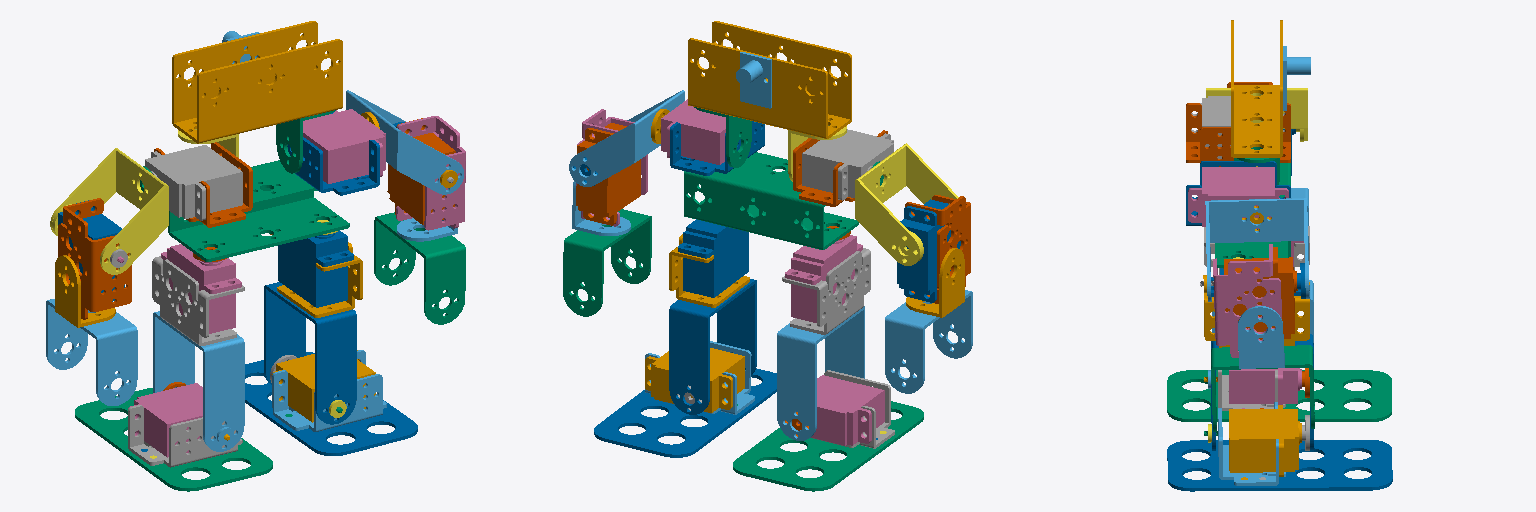
--- Render facts (derived) ---
Views: 3 orthographic renders of the robot side by side, from view 1: azimuth 30°, elevation 25°; view 2: azimuth 150°, elevation 25°; view 3: azimuth 270°, elevation 25°.
Model robot with 59 links and 58 joints (8 revolute, 50 fixed), rooted at base_link, posed all joints at 0.
Links seen in each view (by area): view 1: base_link, body1, leg1, leg2, shoulder2, hand1, hand2, servo21, foot2, bracket41, servo51, foot1 (+17 smaller); view 2: base_link, body1, leg1, leg2, foot2, foot1, shoulder2, hand1, hand2, servo51, servo21, servo81 (+19 smaller); view 3: foot1, foot2, shoulder1, servo71, base_link, bracket31, servo11, connection3, servo81, bracket21, servo31, hand1 (+8 smaller).
Boxes of the visible links, box(x1,y1,x2,y2) form: base_link: box(172, 21, 342, 143); body1: box(168, 160, 349, 261); leg1: box(264, 282, 356, 424); leg2: box(153, 311, 244, 451); shoulder2: box(50, 148, 168, 274); hand1: box(374, 212, 465, 324); hand2: box(46, 299, 137, 405); servo21: box(145, 145, 242, 220); foot2: box(75, 388, 272, 491); bracket41: box(58, 198, 131, 319); servo51: box(278, 230, 353, 307); foot1: box(245, 352, 417, 455); base_link: box(688, 21, 851, 138); body1: box(684, 152, 858, 249); leg1: box(669, 279, 756, 414); leg2: box(777, 306, 864, 440); foot2: box(733, 401, 923, 491); foot1: box(594, 368, 776, 457); shoulder2: box(855, 143, 958, 265); hand1: box(563, 209, 651, 316); hand2: box(885, 290, 972, 393); servo51: box(678, 219, 748, 297); servo21: box(802, 129, 893, 200); servo81: box(798, 375, 884, 445); foot1: box(1167, 440, 1392, 491); foot2: box(1167, 370, 1391, 421); shoulder1: box(1205, 198, 1309, 301); servo71: box(1229, 405, 1301, 476); base_link: box(1231, 20, 1282, 157); bracket31: box(1213, 244, 1281, 357); servo11: box(1188, 167, 1288, 228); connection3: box(1238, 306, 1284, 368); servo81: box(1229, 368, 1301, 404); bracket21: box(1186, 103, 1290, 166); servo31: box(1224, 247, 1297, 339); hand1: box(1211, 345, 1314, 431).
Size in the robot's own frame: 0.2387 by 0.124 by 0.2303 metres.
59 mesh visuals loaded from 59 distinct referenced files (59 binary STL).

The robot description file, URDF, robot "robot":
<?xml version="1.0" ?>
<robot name="robot">

<material name="silver">
  <color rgba="0.700 0.700 0.700 1.000"/>
</material>

<link name="base_link">
  <inertial>
    <origin xyz="0.0013701657974682124 0.001576690193939907 0.20915638797154532" rpy="0 0 0"/>
    <mass value="0.14165248638936148"/>
    <inertia ixx="4.773281688916827e-05" iyy="0.00011970912409957606" izz="0.00011571187682261842" ixy="-4.293557070072845e-18" iyz="7.318364664277155e-19" ixz="-2.1772134876224536e-16"/>
  </inertial>
  <visual>
    <origin xyz="0 0 0" rpy="0 0 0"/>
    <geometry>
      <mesh filename="meshes/base_link.stl" scale="0.001 0.001 0.001"/>
    </geometry>
    <material name="silver"/>
    <material/>
  </visual>
  <collision>
    <origin xyz="0 0 0" rpy="0 0 0"/>
    <geometry>
      <mesh filename="meshes/base_link.stl" scale="0.001 0.001 0.001"/>
    </geometry>
  </collision>
</link>

<link name="camera1">
  <inertial>
    <origin xyz="-0.006999834202576712 0.004491951311822999 0.0017403620449260027" rpy="0 0 0"/>
    <mass value="0.017213034736494746"/>
    <inertia ixx="1.358276581521164e-06" iyy="1.3545110688692593e-06" izz="7.099517221006004e-07" ixy="4.622682309640344e-19" iyz="-2.432662866077315e-07" ixz="-1.2976544751935881e-18"/>
  </inertial>
  <visual>
    <origin xyz="-0.00837 -0.016077 -0.221871" rpy="0 0 0"/>
    <geometry>
      <mesh filename="meshes/camera1.stl" scale="0.001 0.001 0.001"/>
    </geometry>
    <material name="silver"/>
    <material/>
  </visual>
  <collision>
    <origin xyz="-0.00837 -0.016077 -0.221871" rpy="0 0 0"/>
    <geometry>
      <mesh filename="meshes/camera1.stl" scale="0.001 0.001 0.001"/>
    </geometry>
  </collision>
</link>

<link name="connection1">
  <inertial>
    <origin xyz="-0.009713377906085507 -3.098060402423504e-07 -0.010286139285751617" rpy="0 0 0"/>
    <mass value="0.020548069245269533"/>
    <inertia ixx="3.5713234489500884e-06" iyy="3.836775691427874e-06" izz="2.404942580693882e-06" ixy="1.642079247370868e-18" iyz="5.499784926522172e-18" ixz="-1.0087549666986284e-06"/>
  </inertial>
  <visual>
    <origin xyz="-0.03637 -0.001577 -0.192871" rpy="0 0 0"/>
    <geometry>
      <mesh filename="meshes/connection1.stl" scale="0.001 0.001 0.001"/>
    </geometry>
    <material name="silver"/>
    <material/>
  </visual>
  <collision>
    <origin xyz="-0.03637 -0.001577 -0.192871" rpy="0 0 0"/>
    <geometry>
      <mesh filename="meshes/connection1.stl" scale="0.001 0.001 0.001"/>
    </geometry>
  </collision>
</link>

<link name="connection2">
  <inertial>
    <origin xyz="-0.06870929049914766 0.058129690193920676 -0.19634313928575126" rpy="0 0 0"/>
    <mass value="0.020548069245269533"/>
    <inertia ixx="3.5713234489498716e-06" iyy="3.836775691427549e-06" izz="2.40494258069323e-06" ixy="1.6534083130403943e-18" iyz="-5.4447277849506426e-18" ixz="1.008754966699157e-06"/>
  </inertial>
  <visual>
    <origin xyz="-0.044793 0.056553 -0.378928" rpy="0 0 0"/>
    <geometry>
      <mesh filename="meshes/connection2.stl" scale="0.001 0.001 0.001"/>
    </geometry>
    <material name="silver"/>
    <material/>
  </visual>
  <collision>
    <origin xyz="-0.044793 0.056553 -0.378928" rpy="0 0 0"/>
    <geometry>
      <mesh filename="meshes/connection2.stl" scale="0.001 0.001 0.001"/>
    </geometry>
  </collision>
</link>

<link name="bracket11">
  <inertial>
    <origin xyz="0.014403656438291258 -0.010160309805984794 -0.007486470178516336" rpy="0 0 0"/>
    <mass value="0.04491839260137373"/>
    <inertia ixx="1.4471951462612315e-05" iyy="9.956231389530567e-06" izz="1.9175693401914722e-05" ixy="-1.3494928915655513e-17" iyz="1.0083080204115191e-17" ixz="1.2141799296271657e-06"/>
  </inertial>
  <visual>
    <origin xyz="-0.02237 -0.001577 -0.168871" rpy="0 0 0"/>
    <geometry>
      <mesh filename="meshes/bracket11.stl" scale="0.001 0.001 0.001"/>
    </geometry>
    <material name="silver"/>
    <material/>
  </visual>
  <collision>
    <origin xyz="-0.02237 -0.001577 -0.168871" rpy="0 0 0"/>
    <geometry>
      <mesh filename="meshes/bracket11.stl" scale="0.001 0.001 0.001"/>
    </geometry>
  </collision>
</link>

<link name="bracket21">
  <inertial>
    <origin xyz="0.06022667515647532 0.0007636901938649059 -0.15035847017851564" rpy="0 0 0"/>
    <mass value="0.04491839260137373"/>
    <inertia ixx="1.4471951462612315e-05" iyy="9.956231389530784e-06" izz="1.9175693401914763e-05" ixy="-1.3503399245128056e-17" iyz="-9.947554932554503e-18" ixz="-1.214179929626461e-06"/>
  </inertial>
  <visual>
    <origin xyz="0.09426 0.009347 -0.311743" rpy="0 0 0"/>
    <geometry>
      <mesh filename="meshes/bracket21.stl" scale="0.001 0.001 0.001"/>
    </geometry>
    <material name="silver"/>
    <material/>
  </visual>
  <collision>
    <origin xyz="0.09426 0.009347 -0.311743" rpy="0 0 0"/>
    <geometry>
      <mesh filename="meshes/bracket21.stl" scale="0.001 0.001 0.001"/>
    </geometry>
  </collision>
</link>

<link name="servo11">
  <inertial>
    <origin xyz="-0.007913317491596072 -0.02382570023053155 -0.004999682810447603" rpy="0 0 0"/>
    <mass value="0.24700661936155432"/>
    <inertia ixx="4.351485441173378e-05" iyy="3.82657559888748e-05" izz="6.541208567746983e-05" ixy="-8.110467535674782e-07" iyz="4.336808689942018e-19" ixz="1.474514954580286e-17"/>
  </inertial>
  <visual>
    <origin xyz="-0.05537 -0.015417 -0.173871" rpy="0 0 0"/>
    <geometry>
      <mesh filename="meshes/servo11.stl" scale="0.001 0.001 0.001"/>
    </geometry>
    <material name="silver"/>
    <material/>
  </visual>
  <collision>
    <origin xyz="-0.05537 -0.015417 -0.173871" rpy="0 0 0"/>
    <geometry>
      <mesh filename="meshes/servo11.stl" scale="0.001 0.001 0.001"/>
    </geometry>
  </collision>
</link>

<link name="servo21">
  <inertial>
    <origin xyz="0.007913649086362898 -0.02382570023053196 -0.004999682810440803" rpy="0 0 0"/>
    <mass value="0.24700661936155432"/>
    <inertia ixx="4.351485441173638e-05" iyy="3.8265755988873065e-05" izz="6.541208567747015e-05" ixy="8.110467535598617e-07" iyz="3.7947076036992655e-19" ixz="1.474514954580286e-17"/>
  </inertial>
  <visual>
    <origin xyz="0.05263 -0.015417 -0.173871" rpy="0 0 0"/>
    <geometry>
      <mesh filename="meshes/servo21.stl" scale="0.001 0.001 0.001"/>
    </geometry>
    <material name="silver"/>
    <material/>
  </visual>
  <collision>
    <origin xyz="0.05263 -0.015417 -0.173871" rpy="0 0 0"/>
    <geometry>
      <mesh filename="meshes/servo21.stl" scale="0.001 0.001 0.001"/>
    </geometry>
  </collision>
</link>

<link name="geer11">
  <inertial>
    <origin xyz="0.001012184629048854 -2.259071811684752e-07 3.17149589007526e-07" rpy="0 0 0"/>
    <mass value="0.006118395420730019"/>
    <inertia ixx="2.885791940612369e-07" iyy="1.502825918659541e-07" izz="1.5028259089887286e-07" ixy="-3.1212317073373713e-17" iyz="2.866761834158498e-17" ixz="5.735429492448318e-17"/>
  </inertial>
  <visual>
    <origin xyz="-0.070227 -0.001593 -0.168871" rpy="0 0 0"/>
    <geometry>
      <mesh filename="meshes/geer11.stl" scale="0.001 0.001 0.001"/>
    </geometry>
    <material name="silver"/>
    <material/>
  </visual>
  <collision>
    <origin xyz="-0.070227 -0.001593 -0.168871" rpy="0 0 0"/>
    <geometry>
      <mesh filename="meshes/geer11.stl" scale="0.001 0.001 0.001"/>
    </geometry>
  </collision>
</link>

<link name="shoulder1">
  <inertial>
    <origin xyz="0.011322537331950877 0.00024500436696702974 -0.0082885622390525" rpy="0 0 0"/>
    <mass value="0.04640591354591769"/>
    <inertia ixx="3.0158565719618034e-05" iyy="1.2322813661878483e-05" izz="3.1446065876846265e-05" ixy="-1.3599423589060729e-07" iyz="-5.662579714272647e-07" ixz="4.596676968548542e-06"/>
  </inertial>
  <visual>
    <origin xyz="-0.072727 -0.001593 -0.168871" rpy="0 0 0"/>
    <geometry>
      <mesh filename="meshes/shoulder1.stl" scale="0.001 0.001 0.001"/>
    </geometry>
    <material name="silver"/>
    <material/>
  </visual>
  <collision>
    <origin xyz="-0.072727 -0.001593 -0.168871" rpy="0 0 0"/>
    <geometry>
      <mesh filename="meshes/shoulder1.stl" scale="0.001 0.001 0.001"/>
    </geometry>
  </collision>
</link>

<link name="geer21">
  <inertial>
    <origin xyz="-0.0010118530342822507 -2.2590837307052102e-07 3.172301392684318e-07" rpy="0 0 0"/>
    <mass value="0.006118395420730019"/>
    <inertia ixx="2.8857919406047794e-07" iyy="1.5028259186676725e-07" izz="1.5028259089804277e-07" ixy="2.94744172238447e-17" iyz="-3.282252670610414e-20" ixz="5.823520918962766e-17"/>
  </inertial>
  <visual>
    <origin xyz="0.067487 -0.001593 -0.168871" rpy="0 0 0"/>
    <geometry>
      <mesh filename="meshes/geer21.stl" scale="0.001 0.001 0.001"/>
    </geometry>
    <material name="silver"/>
    <material/>
  </visual>
  <collision>
    <origin xyz="0.067487 -0.001593 -0.168871" rpy="0 0 0"/>
    <geometry>
      <mesh filename="meshes/geer21.stl" scale="0.001 0.001 0.001"/>
    </geometry>
  </collision>
</link>

<link name="shoulder2">
  <inertial>
    <origin xyz="0.1575487942628156 -0.01659322898104576 0.03169381092909043" rpy="0 0 0"/>
    <mass value="0.04640591354591769"/>
    <inertia ixx="3.0158565719609577e-05" iyy="1.2306060892459383e-05" izz="3.146281864626992e-05" ixy="-1.1346995332610897e-12" iyz="-7.939690791896334e-13" ixz="-4.598688246160881e-06"/>
  </inertial>
  <visual>
    <origin xyz="0.238858 -0.018186 -0.128885" rpy="0 0 0"/>
    <geometry>
      <mesh filename="meshes/shoulder2.stl" scale="0.001 0.001 0.001"/>
    </geometry>
    <material name="silver"/>
    <material/>
  </visual>
  <collision>
    <origin xyz="0.238858 -0.018186 -0.128885" rpy="0 0 0"/>
    <geometry>
      <mesh filename="meshes/shoulder2.stl" scale="0.001 0.001 0.001"/>
    </geometry>
  </collision>
</link>

<link name="geer31">
  <inertial>
    <origin xyz="-2.343668628612683e-08 -0.0014872206682448944 -4.40889649742926e-05" rpy="0 0 0"/>
    <mass value="0.006118395420730019"/>
    <inertia ixx="1.502825908979513e-07" iyy="2.8845825201200123e-07" izz="1.5040353391640947e-07" ixy="5.819455160815945e-17" iyz="4.087939278033556e-09" ixz="1.7753810574450135e-18"/>
  </inertial>
  <visual>
    <origin xyz="-0.104727 -0.028306 -0.145151" rpy="0 0 0"/>
    <geometry>
      <mesh filename="meshes/geer31.stl" scale="0.001 0.001 0.001"/>
    </geometry>
    <material name="silver"/>
    <material/>
  </visual>
  <collision>
    <origin xyz="-0.104727 -0.028306 -0.145151" rpy="0 0 0"/>
    <geometry>
      <mesh filename="meshes/geer31.stl" scale="0.001 0.001 0.001"/>
    </geometry>
  </collision>
</link>

<link name="servo31">
  <inertial>
    <origin xyz="-2.3396106288431362e-08 -0.02246455636594554 -0.010670488861434874" rpy="0 0 0"/>
    <mass value="0.24700661936155432"/>
    <inertia ixx="6.541208567746679e-05" iyy="4.3558211826113906e-05" izz="3.82223985746148e-05" ixy="8.483881999699072e-18" iyz="-6.544689725912679e-07" ixz="7.37257477290143e-18"/>
  </inertial>
  <visual>
    <origin xyz="-0.104727 -0.025807 -0.145077" rpy="0 0 0"/>
    <geometry>
      <mesh filename="meshes/servo31.stl" scale="0.001 0.001 0.001"/>
    </geometry>
    <material name="silver"/>
    <material/>
  </visual>
  <collision>
    <origin xyz="-0.104727 -0.025807 -0.145077" rpy="0 0 0"/>
    <geometry>
      <mesh filename="meshes/servo31.stl" scale="0.001 0.001 0.001"/>
    </geometry>
  </collision>
</link>

<link name="bracket31">
  <inertial>
    <origin xyz="0.0024867639719687723 -0.017878746615918997 -0.024539942127773273" rpy="0 0 0"/>
    <mass value="0.04491839260137373"/>
    <inertia ixx="1.917569340190357e-05" iyy="1.4468002410790003e-05" izz="9.960180441345072e-06" ixy="-1.213648905988415e-06" iyz="1.3348115063672154e-07" ixz="-3.5905911806625133e-08"/>
  </inertial>
  <visual>
    <origin xyz="-0.109727 -0.010548 -0.158456" rpy="0 0 0"/>
    <geometry>
      <mesh filename="meshes/bracket31.stl" scale="0.001 0.001 0.001"/>
    </geometry>
    <material name="silver"/>
    <material/>
  </visual>
  <collision>
    <origin xyz="-0.109727 -0.010548 -0.158456" rpy="0 0 0"/>
    <geometry>
      <mesh filename="meshes/bracket31.stl" scale="0.001 0.001 0.001"/>
    </geometry>
  </collision>
</link>

<link name="lbolt11">
  <inertial>
    <origin xyz="7.984727779936085e-07 -0.003763245905150793 -0.00011191151929032528" rpy="0 0 0"/>
    <mass value="0.0005719338031033318"/>
    <inertia ixx="6.1499699829141105e-09" iyy="1.1035193324075287e-09" izz="6.145799218792468e-09" ixy="-2.731998885050559e-12" iyz="-1.4860934736550644e-10" ixz="1.2785458862419816e-13"/>
  </inertial>
  <visual>
    <origin xyz="-0.104727 0.019968 -0.143707" rpy="0 0 0"/>
    <geometry>
      <mesh filename="meshes/lbolt11.stl" scale="0.001 0.001 0.001"/>
    </geometry>
    <material name="silver"/>
    <material/>
  </visual>
  <collision>
    <origin xyz="-0.104727 0.019968 -0.143707" rpy="0 0 0"/>
    <geometry>
      <mesh filename="meshes/lbolt11.stl" scale="0.001 0.001 0.001"/>
    </geometry>
  </collision>
</link>

<link name="washers11">
  <inertial>
    <origin xyz="-2.3396262566199866e-08 -0.00027222059424134026 -8.027903689727944e-06" rpy="0 0 0"/>
    <mass value="0.001753136877683194"/>
    <inertia ixx="1.2790252015429458e-08" iyy="2.1242348928840016e-08" izz="1.2797650699084939e-08" ixy="3.9048218868423246e-19" iyz="2.5005602351015077e-10" ixz="1.6940658945086007e-20"/>
  </inertial>
  <visual>
    <origin xyz="-0.104727 0.02567 -0.143554" rpy="0 0 0"/>
    <geometry>
      <mesh filename="meshes/washers11.stl" scale="0.001 0.001 0.001"/>
    </geometry>
    <material name="silver"/>
    <material/>
  </visual>
  <collision>
    <origin xyz="-0.104727 0.02567 -0.143554" rpy="0 0 0"/>
    <geometry>
      <mesh filename="meshes/washers11.stl" scale="0.001 0.001 0.001"/>
    </geometry>
  </collision>
</link>

<link name="connection3">
  <inertial>
    <origin xyz="-0.0007144793201071253 -0.18042182509545407 0.08615346557426815" rpy="0 0 0"/>
    <mass value="0.020548069245269533"/>
    <inertia ixx="3.5713234489500342e-06" iyy="3.835523536054237e-06" izz="2.4061947360619557e-06" ixy="2.9831053858648315e-08" iyz="4.232386596290797e-08" ixz="-1.0083137860139786e-06"/>
  </inertial>
  <visual>
    <origin xyz="-0.115155 -0.184399 -0.023873" rpy="0 0 0"/>
    <geometry>
      <mesh filename="meshes/connection3.stl" scale="0.001 0.001 0.001"/>
    </geometry>
    <material name="silver"/>
    <material/>
  </visual>
  <collision>
    <origin xyz="-0.115155 -0.184399 -0.023873" rpy="0 0 0"/>
    <geometry>
      <mesh filename="meshes/connection3.stl" scale="0.001 0.001 0.001"/>
    </geometry>
  </collision>
</link>

<link name="hand1">
  <inertial>
    <origin xyz="0.046629976976433236 -0.014771346778488532 0.1299019504597067" rpy="0 0 0"/>
    <mass value="0.04880806924526924"/>
    <inertia ixx="3.4702615753875196e-05" iyy="1.1123979702701704e-05" izz="2.876175752851678e-05" ixy="-8.334804200982315e-19" iyz="-5.222723733511982e-07" ixz="2.0057740190981832e-17"/>
  </inertial>
  <visual>
    <origin xyz="-0.058097 -0.019425 0.042741" rpy="0 0 0"/>
    <geometry>
      <mesh filename="meshes/hand1.stl" scale="0.001 0.001 0.001"/>
    </geometry>
    <material name="silver"/>
    <material/>
  </visual>
  <collision>
    <origin xyz="-0.058097 -0.019425 0.042741" rpy="0 0 0"/>
    <geometry>
      <mesh filename="meshes/hand1.stl" scale="0.001 0.001 0.001"/>
    </geometry>
  </collision>
</link>

<link name="geer41">
  <inertial>
    <origin xyz="-0.12472664504971388 0.07618398293097349 -0.13061268279017413" rpy="0 0 0"/>
    <mass value="0.006118395420730019"/>
    <inertia ixx="1.5028259089784287e-07" iyy="2.8857919406218555e-07" izz="1.5028259186744487e-07" ixy="5.821488039889355e-17" iyz="-2.949368722339474e-17" ixz="4.0657581468206416e-20"/>
  </inertial>
  <visual>
    <origin xyz="-0.02274 0.050079 -0.274984" rpy="0 0 0"/>
    <geometry>
      <mesh filename="meshes/geer41.stl" scale="0.001 0.001 0.001"/>
    </geometry>
    <material name="silver"/>
    <material/>
  </visual>
  <collision>
    <origin xyz="-0.02274 0.050079 -0.274984" rpy="0 0 0"/>
    <geometry>
      <mesh filename="meshes/geer41.stl" scale="0.001 0.001 0.001"/>
    </geometry>
  </collision>
</link>

<link name="servo41">
  <inertial>
    <origin xyz="3.549908662164869e-07 -0.022770519189672052 -0.010001157112332959" rpy="0 0 0"/>
    <mass value="0.24700661936155432"/>
    <inertia ixx="6.541208567746853e-05" iyy="4.351485441181791e-05" izz="3.8265755988907326e-05" ixy="8.646512325571898e-18" iyz="-8.110467535654047e-07" ixz="6.071532165918825e-18"/>
  </inertial>
  <visual>
    <origin xyz="0.101987 -0.025093 -0.144371" rpy="0 0 0"/>
    <geometry>
      <mesh filename="meshes/servo41.stl" scale="0.001 0.001 0.001"/>
    </geometry>
    <material name="silver"/>
    <material/>
  </visual>
  <collision>
    <origin xyz="0.101987 -0.025093 -0.144371" rpy="0 0 0"/>
    <geometry>
      <mesh filename="meshes/servo41.stl" scale="0.001 0.001 0.001"/>
    </geometry>
  </collision>
</link>

<link name="bracket41">
  <inertial>
    <origin xyz="-0.0024864323772015445 -0.018596545259784554 -0.02399976668778489" rpy="0 0 0"/>
    <mass value="0.04491839260137373"/>
    <inertia ixx="1.9175693401879716e-05" iyy="1.4471951462613616e-05" izz="9.956231389507257e-06" ixy="1.214179929626068e-06" iyz="-1.4799359654427136e-17" ixz="5.637851296924623e-18"/>
  </inertial>
  <visual>
    <origin xyz="0.106987 -0.010236 -0.158195" rpy="0 0 0"/>
    <geometry>
      <mesh filename="meshes/bracket41.stl" scale="0.001 0.001 0.001"/>
    </geometry>
    <material name="silver"/>
    <material/>
  </visual>
  <collision>
    <origin xyz="0.106987 -0.010236 -0.158195" rpy="0 0 0"/>
    <geometry>
      <mesh filename="meshes/bracket41.stl" scale="0.001 0.001 0.001"/>
    </geometry>
  </collision>
</link>

<link name="lbolt21">
  <inertial>
    <origin xyz="1.1765021017406951e-06 -0.003964642011537151 2.8816194125314e-08" rpy="0 0 0"/>
    <mass value="0.0005719338031033318"/>
    <inertia ixx="6.1499699829124164e-09" iyy="1.0991433151858745e-09" izz="6.150175236007346e-09" ixy="-2.7270231323034487e-12" iyz="6.964205111843671e-13" ixz="2.0858975252624219e-13"/>
  </inertial>
  <visual>
    <origin xyz="0.101987 0.020703 -0.144355" rpy="0 0 0"/>
    <geometry>
      <mesh filename="meshes/lbolt21.stl" scale="0.001 0.001 0.001"/>
    </geometry>
    <material name="silver"/>
    <material/>
  </visual>
  <collision>
    <origin xyz="0.101987 0.020703 -0.144355" rpy="0 0 0"/>
    <geometry>
      <mesh filename="meshes/lbolt21.stl" scale="0.001 0.001 0.001"/>
    </geometry>
  </collision>
</link>

<link name="washers21">
  <inertial>
    <origin xyz="-0.12472664500928997 -0.030577103038707115 -0.1322096828104447" rpy="0 0 0"/>
    <mass value="0.001753136877683194"/>
    <inertia ixx="1.2790252015429458e-08" iyy="2.124974685873104e-08" izz="1.2790252769183749e-08" ixy="3.9132922163148676e-19" iyz="8.470329472543003e-22" ixz="0.0"/>
  </inertial>
  <visual>
    <origin xyz="-0.02274 -0.003898 -0.276581" rpy="0 0 0"/>
    <geometry>
      <mesh filename="meshes/washers21.stl" scale="0.001 0.001 0.001"/>
    </geometry>
    <material name="silver"/>
    <material/>
  </visual>
  <collision>
    <origin xyz="-0.02274 -0.003898 -0.276581" rpy="0 0 0"/>
    <geometry>
      <mesh filename="meshes/washers21.stl" scale="0.001 0.001 0.001"/>
    </geometry>
  </collision>
</link>

<link name="connection4">
  <inertial>
    <origin xyz="0.0020508109148740378 -0.17775603590072814 0.09483568960863409" rpy="0 0 0"/>
    <mass value="0.020548069245269533"/>
    <inertia ixx="3.5713234489513353e-06" iyy="3.836775691451943e-06" izz="2.404942580696071e-06" ixy="-3.64986496971878e-18" iyz="-1.8228149024912543e-18" ixz="1.0087549666945085e-06"/>
  </inertial>
  <visual>
    <origin xyz="0.113751 -0.179992 -0.015146" rpy="0 0 0"/>
    <geometry>
      <mesh filename="meshes/connection4.stl" scale="0.001 0.001 0.001"/>
    </geometry>
    <material name="silver"/>
    <material/>
  </visual>
  <collision>
    <origin xyz="0.113751 -0.179992 -0.015146" rpy="0 0 0"/>
    <geometry>
      <mesh filename="meshes/connection4.stl" scale="0.001 0.001 0.001"/>
    </geometry>
  </collision>
</link>

<link name="hand2">
  <inertial>
    <origin xyz="-0.04662964538164932 0.010922964099257856 0.13028216984694155" rpy="0 0 0"/>
    <mass value="0.04880806924526924"/>
    <inertia ixx="3.470261575387346e-05" iyy="1.110852822765933e-05" izz="2.8777209003567395e-05" ixy="-8.191486226306888e-17" iyz="3.8963515573697816e-20" ixz="1.962405932198763e-17"/>
  </inertial>
  <visual>
    <origin xyz="0.055357 0.008687 0.043176" rpy="0 0 0"/>
    <geometry>
      <mesh filename="meshes/hand2.stl" scale="0.001 0.001 0.001"/>
    </geometry>
    <material name="silver"/>
    <material/>
  </visual>
  <collision>
    <origin xyz="0.055357 0.008687 0.043176" rpy="0 0 0"/>
    <geometry>
      <mesh filename="meshes/hand2.stl" scale="0.001 0.001 0.001"/>
    </geometry>
  </collision>
</link>

<link name="body1">
  <inertial>
    <origin xyz="-0.03499983420270281 0.012714619233136496 -0.014499683182973233" rpy="0 0 0"/>
    <mass value="0.14165248638936148"/>
    <inertia ixx="4.7732816889168705e-05" iyy="0.00011571187682262504" izz="0.00011970912409958194" ixy="-2.206345068260897e-16" iyz="8.131516293641283e-20" ixz="1.4907779871675686e-18"/>
  </inertial>
  <visual>
    <origin xyz="-0.03637 0.008583 -0.154871" rpy="0 0 0"/>
    <geometry>
      <mesh filename="meshes/body1.stl" scale="0.001 0.001 0.001"/>
    </geometry>
    <material name="silver"/>
    <material/>
  </visual>
  <collision>
    <origin xyz="-0.03637 0.008583 -0.154871" rpy="0 0 0"/>
    <geometry>
      <mesh filename="meshes/body1.stl" scale="0.001 0.001 0.001"/>
    </geometry>
  </collision>
</link>

<link name="geer51">
  <inertial>
    <origin xyz="1.6575679852304237e-07 -3.098263310647581e-07 -0.0014874751578223128" rpy="0 0 0"/>
    <mass value="0.006118395420730019"/>
    <inertia ixx="1.5028259089801905e-07" iyy="1.502825918667808e-07" izz="2.8857919406156044e-07" ixy="-5.082197683525802e-20" iyz="2.9491146124552975e-17" ixz="5.824876171678373e-17"/>
  </inertial>
  <visual>
    <origin xyz="-0.03637 0.008583 -0.125871" rpy="0 0 0"/>
    <geometry>
      <mesh filename="meshes/geer51.stl" scale="0.001 0.001 0.001"/>
    </geometry>
    <material name="silver"/>
    <material/>
  </visual>
  <collision>
    <origin xyz="-0.03637 0.008583 -0.125871" rpy="0 0 0"/>
    <geometry>
      <mesh filename="meshes/geer51.stl" scale="0.001 0.001 0.001"/>
    </geometry>
  </collision>
</link>

<link name="servo51">
  <inertial>
    <origin xyz="-0.00012121475912479918 0.010000427915319762 -0.022769977278467565" rpy="0 0 0"/>
    <mass value="0.24700661936155432"/>
    <inertia ixx="6.540808732274006e-05" iyy="3.826975434361281e-05" izz="4.351485441177026e-05" ixy="3.294308253941821e-07" iyz="8.109870222482426e-07" ixz="-9.843079442229535e-09"/>
  </inertial>
  <visual>
    <origin xyz="-0.03637 0.008583 -0.123371" rpy="0 0 0"/>
    <geometry>
      <mesh filename="meshes/servo51.stl" scale="0.001 0.001 0.001"/>
    </geometry>
    <material name="silver"/>
    <material/>
  </visual>
  <collision>
    <origin xyz="-0.03637 0.008583 -0.123371" rpy="0 0 0"/>
    <geometry>
      <mesh filename="meshes/servo51.stl" scale="0.001 0.001 0.001"/>
    </geometry>
  </collision>
</link>

<link name="geer61">
  <inertial>
    <origin xyz="1.6575679884917038e-07 -3.098263314325195e-07 -0.0014874751578212303" rpy="0 0 0"/>
    <mass value="0.006118395420730019"/>
    <inertia ixx="1.502825908980326e-07" iyy="1.5028259186679435e-07" izz="2.885791940614622e-07" ixy="-4.0657581468206416e-20" iyz="2.949029909160572e-17" ixz="5.824876171678373e-17"/>
  </inertial>
  <visual>
    <origin xyz="0.03363 0.008583 -0.125871" rpy="0 0 0"/>
    <geometry>
      <mesh filename="meshes/geer61.stl" scale="0.001 0.001 0.001"/>
    </geometry>
    <material name="silver"/>
    <material/>
  </visual>
  <collision>
    <origin xyz="0.03363 0.008583 -0.125871" rpy="0 0 0"/>
    <geometry>
      <mesh filename="meshes/geer61.stl" scale="0.001 0.001 0.001"/>
    </geometry>
  </collision>
</link>

<link name="servo61">
  <inertial>
    <origin xyz="1.657973792423828e-07 0.010001164495827696 -0.022769977278467107" rpy="0 0 0"/>
    <mass value="0.24700661936155432"/>
    <inertia ixx="6.541208567746679e-05" iyy="3.8265755988884775e-05" izz="4.351485441182198e-05" ixy="-2.9493687223394738e-18" iyz="8.110467535637784e-07" ixz="1.5720931501039814e-17"/>
  </inertial>
  <visual>
    <origin xyz="0.03363 0.008583 -0.123371" rpy="0 0 0"/>
    <geometry>
      <mesh filename="meshes/servo61.stl" scale="0.001 0.001 0.001"/>
    </geometry>
    <material name="silver"/>
    <material/>
  </visual>
  <collision>
    <origin xyz="0.03363 0.008583 -0.123371" rpy="0 0 0"/>
    <geometry>
      <mesh filename="meshes/servo61.stl" scale="0.001 0.001 0.001"/>
    </geometry>
  </collision>
</link>

<link name="bracket61">
  <inertial>
    <origin xyz="-0.0024866215706897607 0.02399977407128077 -0.01859700334857986" rpy="0 0 0"/>
    <mass value="0.04491839260137373"/>
    <inertia ixx="1.9175693401906658e-05" iyy="9.956231389524224e-06" izz="1.4471951462613386e-05" ixy="-1.0149148774001027e-17" iyz="1.3131551781283418e-17" ixz="1.2141799296271657e-06"/>
  </inertial>
  <visual>
    <origin xyz="0.03863 0.022407 -0.108515" rpy="0 0 0"/>
    <geometry>
      <mesh filename="meshes/bracket61.stl" scale="0.001 0.001 0.001"/>
    </geometry>
    <material name="silver"/>
    <material/>
  </visual>
  <collision>
    <origin xyz="0.03863 0.022407 -0.108515" rpy="0 0 0"/>
    <geometry>
      <mesh filename="meshes/bracket61.stl" scale="0.001 0.001 0.001"/>
    </geometry>
  </collision>
</link>

<link name="bracket51">
  <inertial>
    <origin xyz="0.01219490211975073 0.024149886277384364 -0.018597003348579888" rpy="0 0 0"/>
    <mass value="0.04491839260137373"/>
    <inertia ixx="1.9174335476919034e-05" iyy="9.957589314517486e-06" izz="1.4471951462612667e-05" ixy="1.1188160664819929e-07" iyz="-1.4735611094533693e-08" ixz="-1.2140905086828295e-06"/>
  </inertial>
  <visual>
    <origin xyz="-0.031538 0.022467 -0.108515" rpy="0 0 0"/>
    <geometry>
      <mesh filename="meshes/bracket51.stl" scale="0.001 0.001 0.001"/>
    </geometry>
    <material name="silver"/>
    <material/>
  </visual>
  <collision>
    <origin xyz="-0.031538 0.022467 -0.108515" rpy="0 0 0"/>
    <geometry>
      <mesh filename="meshes/bracket51.stl" scale="0.001 0.001 0.001"/>
    </geometry>
  </collision>
</link>

<link name="leg2">
  <inertial>
    <origin xyz="0.009247165618562272 -0.033532224262608865 -0.17571186061225758" rpy="0 0 0"/>
    <mass value="0.0645080651117032"/>
    <inertia ixx="6.218973636208869e-05" iyy="2.7962826414962532e-05" izz="4.104544766075196e-05" ixy="-9.33430307874239e-19" iyz="2.658086248395579e-12" ixz="-3.3772897672923463e-17"/>
  </inertial>
  <visual>
    <origin xyz="0.042877 -0.038285 -0.23009" rpy="0 0 0"/>
    <geometry>
      <mesh filename="meshes/leg2.stl" scale="0.001 0.001 0.001"/>
    </geometry>
    <material name="silver"/>
    <material/>
  </visual>
  <collision>
    <origin xyz="0.042877 -0.038285 -0.23009" rpy="0 0 0"/>
    <geometry>
      <mesh filename="meshes/leg2.stl" scale="0.001 0.001 0.001"/>
    </geometry>
  </collision>
</link>

<link name="lbolt41">
  <inertial>
    <origin xyz="9.873086349657112e-07 -2.1432698396432748e-08 -0.003964100100332074" rpy="0 0 0"/>
    <mass value="0.0005719338031033311"/>
    <inertia ixx="6.149969982913687e-09" iyy="6.150175236297031e-09" izz="1.0991433156702715e-09" ixy="-2.0858982113591091e-13" iyz="-6.964204539567036e-13" ixz="-2.727023125527185e-12"/>
  </inertial>
  <visual>
    <origin xyz="0.03363 -0.004753 -0.077575" rpy="0 0 0"/>
    <geometry>
      <mesh filename="meshes/lbolt41.stl" scale="0.001 0.001 0.001"/>
    </geometry>
    <material name="silver"/>
    <material/>
  </visual>
  <collision>
    <origin xyz="0.03363 -0.004753 -0.077575" rpy="0 0 0"/>
    <geometry>
      <mesh filename="meshes/lbolt41.stl" scale="0.001 0.001 0.001"/>
    </geometry>
  </collision>
</link>

<link name="washers41">
  <inertial>
    <origin xyz="-0.023707834381591394 -0.07775222592864425 -0.037786371099550825" rpy="0 0 0"/>
    <mass value="0.0017531368776831922"/>
    <inertia ixx="1.2790252015439622e-08" iyy="1.2790252770135814e-08" izz="2.1249746859924087e-08" ixy="-2.3605749448793283e-19" iyz="4.0234064994579266e-20" ixz="3.2441361879839703e-19"/>
  </inertial>
  <visual>
    <origin xyz="0.009922 -0.082505 -0.111029" rpy="0 0 0"/>
    <geometry>
      <mesh filename="meshes/washers41.stl" scale="0.001 0.001 0.001"/>
    </geometry>
    <material name="silver"/>
    <material/>
  </visual>
  <collision>
    <origin xyz="0.009922 -0.082505 -0.111029" rpy="0 0 0"/>
    <geometry>
      <mesh filename="meshes/washers41.stl" scale="0.001 0.001 0.001"/>
    </geometry>
  </collision>
</link>

<link name="leg1">
  <inertial>
    <origin xyz="3.156893112199466e-07 -2.0642570427130413e-07 -0.021136860612257127" rpy="0 0 0"/>
    <mass value="0.0645080651117032"/>
    <inertia ixx="6.218469511604273e-05" iyy="2.7967867661002886e-05" izz="4.1045447660744016e-05" ixy="4.1535630502956365e-07" iyz="2.6578882493619605e-12" ixz="-3.2292636446829004e-14"/>
  </inertial>
  <visual>
    <origin xyz="-0.036208 -0.004752 -0.075515" rpy="0 0 0"/>
    <geometry>
      <mesh filename="meshes/leg1.stl" scale="0.001 0.001 0.001"/>
    </geometry>
    <material name="silver"/>
    <material/>
  </visual>
  <collision>
    <origin xyz="-0.036208 -0.004752 -0.075515" rpy="0 0 0"/>
    <geometry>
      <mesh filename="meshes/leg1.stl" scale="0.001 0.001 0.001"/>
    </geometry>
  </collision>
</link>

<link name="lbolt31">
  <inertial>
    <origin xyz="1.1348572703795412e-06 6.361517873240685e-09 -0.003964100100332102" rpy="0 0 0"/>
    <mass value="0.000571933803103332"/>
    <inertia ixx="6.149975075775515e-09" iyy="6.1501701434267325e-09" izz="1.0991433156114027e-09" ixy="-2.1101920216851737e-13" iyz="-7.29465043849518e-13" ixz="-2.718370344734287e-12"/>
  </inertial>
  <visual>
    <origin xyz="-0.036208 -0.004752 -0.077575" rpy="0 0 0"/>
    <geometry>
      <mesh filename="meshes/lbolt31.stl" scale="0.001 0.001 0.001"/>
    </geometry>
    <material name="silver"/>
    <material/>
  </visual>
  <collision>
    <origin xyz="-0.036208 -0.004752 -0.077575" rpy="0 0 0"/>
    <geometry>
      <mesh filename="meshes/lbolt31.stl" scale="0.001 0.001 0.001"/>
    </geometry>
  </collision>
</link>

<link name="washers31">
  <inertial>
    <origin xyz="3.1570937650271524e-07 -2.0809161889196598e-07 -0.00027237109955073613" rpy="0 0 0"/>
    <mass value="0.0017531368776831922"/>
    <inertia ixx="1.2790252015554819e-08" iyy="1.279025277064234e-08" izz="2.124974685906943e-08" ixy="-9.385072116018444e-18" iyz="4.362219678359647e-20" ixz="3.1340219048409113e-19"/>
  </inertial>
  <visual>
    <origin xyz="-0.036208 -0.004752 -0.073515" rpy="0 0 0"/>
    <geometry>
      <mesh filename="meshes/washers31.stl" scale="0.001 0.001 0.001"/>
    </geometry>
    <material name="silver"/>
    <material/>
  </visual>
  <collision>
    <origin xyz="-0.036208 -0.004752 -0.073515" rpy="0 0 0"/>
    <geometry>
      <mesh filename="meshes/washers31.stl" scale="0.001 0.001 0.001"/>
    </geometry>
  </collision>
</link>

<link name="geer71">
  <inertial>
    <origin xyz="1.7828982353418343e-05 -0.0014878053222732689 -4.939692195525536e-07" rpy="0 0 0"/>
    <mass value="0.006118395420730019"/>
    <inertia ixx="1.5030296045973879e-07" iyy="2.885588244998729e-07" izz="1.5028259186681638e-07" ixy="-1.678280749992095e-09" iyz="-2.9486487443343076e-17" ixz="3.9895251815677546e-19"/>
  </inertial>
  <visual>
    <origin xyz="-0.035893 -0.03075 -0.021015" rpy="0 0 0"/>
    <geometry>
      <mesh filename="meshes/geer71.stl" scale="0.001 0.001 0.001"/>
    </geometry>
    <material name="silver"/>
    <material/>
  </visual>
  <collision>
    <origin xyz="-0.035893 -0.03075 -0.021015" rpy="0 0 0"/>
    <geometry>
      <mesh filename="meshes/geer71.stl" scale="0.001 0.001 0.001"/>
    </geometry>
  </collision>
</link>

<link name="servo71">
  <inertial>
    <origin xyz="0.01027666111538287 -0.022647181881893685 0.00010309312284430619" rpy="0 0 0"/>
    <mass value="0.24700661936155432"/>
    <inertia ixx="3.824975706213154e-05" iyy="4.353376535971463e-05" izz="6.540917365631328e-05" ixy="7.470999210433885e-07" iyz="4.9874980018085446e-09" ixz="-2.8122569941817265e-07"/>
  </inertial>
  <visual>
    <origin xyz="-0.035923 -0.02825 -0.021015" rpy="0 0 0"/>
    <geometry>
      <mesh filename="meshes/servo71.stl" scale="0.001 0.001 0.001"/>
    </geometry>
    <material name="silver"/>
    <material/>
  </visual>
  <collision>
    <origin xyz="-0.035923 -0.02825 -0.021015" rpy="0 0 0"/>
    <geometry>
      <mesh filename="meshes/servo71.stl" scale="0.001 0.001 0.001"/>
    </geometry>
  </collision>
</link>

<link name="bracket71">
  <inertial>
    <origin xyz="0.024352436842426016 -0.018302361111654578 -0.012237484212325686" rpy="0 0 0"/>
    <mass value="0.04491839260137373"/>
    <inertia ixx="9.958190559341907e-06" iyy="1.447098127615788e-05" izz="1.9174704418547964e-05" ixy="-6.735972474332096e-08" iyz="1.2128665868181406e-06" ixz="-1.102103339691009e-07"/>
  </inertial>
  <visual>
    <origin xyz="-0.022229 -0.013226 -0.025871" rpy="0 0 0"/>
    <geometry>
      <mesh filename="meshes/bracket71.stl" scale="0.001 0.001 0.001"/>
    </geometry>
    <material name="silver"/>
    <material/>
  </visual>
  <collision>
    <origin xyz="-0.022229 -0.013226 -0.025871" rpy="0 0 0"/>
    <geometry>
      <mesh filename="meshes/bracket71.stl" scale="0.001 0.001 0.001"/>
    </geometry>
  </collision>
</link>

<link name="lbolt51">
  <inertial>
    <origin xyz="4.8924660410738785e-05 -0.003964485817788535 -5.235591943528184e-07" rpy="0 0 0"/>
    <mass value="0.0005719338031033302"/>
    <inertia ixx="6.149288112370458e-09" iyy="1.099820887372321e-09" izz="6.150179534996438e-09" ixy="5.856032692907447e-11" iyz="6.705947730311754e-13" ixz="1.9829542463442238e-13"/>
  </inertial>
  <visual>
    <origin xyz="-0.036495 0.017542 -0.021015" rpy="0 0 0"/>
    <geometry>
      <mesh filename="meshes/lbolt51.stl" scale="0.001 0.001 0.001"/>
    </geometry>
    <material name="silver"/>
    <material/>
  </visual>
  <collision>
    <origin xyz="-0.036495 0.017542 -0.021015" rpy="0 0 0"/>
    <geometry>
      <mesh filename="meshes/lbolt51.stl" scale="0.001 0.001 0.001"/>
    </geometry>
  </collision>
</link>

<link name="washers51">
  <inertial>
    <origin xyz="3.430741566286255e-06 -0.00027200305729025917 -4.93989490080865e-07" rpy="0 0 0"/>
    <mass value="0.0017531368776831922"/>
    <inertia ixx="1.2791498005649688e-08" iyy="2.1248500869016913e-08" izz="1.2790252770347149e-08" ixy="-1.0265912166253661e-10" iyz="-3.4622471719019526e-20" ixz="2.346281263894412e-19"/>
  </inertial>
  <visual>
    <origin xyz="-0.036548 0.023246 -0.021015" rpy="0 0 0"/>
    <geometry>
      <mesh filename="meshes/washers51.stl" scale="0.001 0.001 0.001"/>
    </geometry>
    <material name="silver"/>
    <material/>
  </visual>
  <collision>
    <origin xyz="-0.036548 0.023246 -0.021015" rpy="0 0 0"/>
    <geometry>
      <mesh filename="meshes/washers51.stl" scale="0.001 0.001 0.001"/>
    </geometry>
  </collision>
</link>

<link name="foot1">
  <inertial>
    <origin xyz="0.02389836667431896 0.009306210785565417 -0.0007512942300409138" rpy="0 0 0"/>
    <mass value="0.10122041855728602"/>
    <inertia ixx="0.00012181184329396493" iyy="3.577570116424333e-05" izz="0.0001575124059665672" ixy="1.044388295312379e-06" iyz="-4.486601795975192e-09" ixz="-3.6965828081359664e-07"/>
  </inertial>
  <visual>
    <origin xyz="-0.022535 -0.004229 -0.006872" rpy="0 0 0"/>
    <geometry>
      <mesh filename="meshes/foot1.stl" scale="0.001 0.001 0.001"/>
    </geometry>
    <material name="silver"/>
    <material/>
  </visual>
  <collision>
    <origin xyz="-0.022535 -0.004229 -0.006872" rpy="0 0 0"/>
    <geometry>
      <mesh filename="meshes/foot1.stl" scale="0.001 0.001 0.001"/>
    </geometry>
  </collision>
</link>

<link name="geer81">
  <inertial>
    <origin xyz="-0.023392834422014234 -0.07923801790349247 -0.03751449396922067" rpy="0 0 0"/>
    <mass value="0.006118395420730019"/>
    <inertia ixx="1.502825908979767e-07" iyy="2.885791940614859e-07" izz="1.5028259186697392e-07" ixy="5.82250447942606e-17" iyz="-2.9489452058658466e-17" ixz="4.1504614415460717e-20"/>
  </inertial>
  <visual>
    <origin xyz="0.010237 -0.108503 -0.058529" rpy="0 0 0"/>
    <geometry>
      <mesh filename="meshes/geer81.stl" scale="0.001 0.001 0.001"/>
    </geometry>
    <material name="silver"/>
    <material/>
  </visual>
  <collision>
    <origin xyz="0.010237 -0.108503 -0.058529" rpy="0 0 0"/>
    <geometry>
      <mesh filename="meshes/geer81.stl" scale="0.001 0.001 0.001"/>
    </geometry>
  </collision>
</link>

<link name="servo81">
  <inertial>
    <origin xyz="-0.010001308683319186 -0.02277052002413787 -4.939894886063501e-07" rpy="0 0 0"/>
    <mass value="0.24700661936155432"/>
    <inertia ixx="3.826575598887598e-05" iyy="4.351485441180013e-05" izz="6.541208567746701e-05" ixy="-8.110467535678848e-07" iyz="-1.2268425208031286e-17" ixz="-3.0086610286472748e-18"/>
  </inertial>
  <visual>
    <origin xyz="0.03363 -0.028253 -0.021015" rpy="0 0 0"/>
    <geometry>
      <mesh filename="meshes/servo81.stl" scale="0.001 0.001 0.001"/>
    </geometry>
    <material name="silver"/>
    <material/>
  </visual>
  <collision>
    <origin xyz="0.03363 -0.028253 -0.021015" rpy="0 0 0"/>
    <geometry>
      <mesh filename="meshes/servo81.stl" scale="0.001 0.001 0.001"/>
    </geometry>
  </collision>
</link>

<link name="bracket81">
  <inertial>
    <origin xyz="-0.02399991825892268 -0.018596546094250578 -0.01248728135756394" rpy="0 0 0"/>
    <mass value="0.04491839260137373"/>
    <inertia ixx="9.95623138952843e-06" iyy="1.4471951462612844e-05" izz="1.9175693401921647e-05" ixy="1.2910476182050046e-17" iyz="1.214179929626904e-06" ixz="-9.90350921929728e-18"/>
  </inertial>
  <visual>
    <origin xyz="0.019806 -0.013396 -0.026015" rpy="0 0 0"/>
    <geometry>
      <mesh filename="meshes/bracket81.stl" scale="0.001 0.001 0.001"/>
    </geometry>
    <material name="silver"/>
    <material/>
  </visual>
  <collision>
    <origin xyz="0.019806 -0.013396 -0.026015" rpy="0 0 0"/>
    <geometry>
      <mesh filename="meshes/bracket81.stl" scale="0.001 0.001 0.001"/>
    </geometry>
  </collision>
</link>

<link name="lbolt61">
  <inertial>
    <origin xyz="9.034312193345606e-07 -0.003964642846002512 -6.986642513487351e-07" rpy="0 0 0"/>
    <mass value="0.0005719338031033323"/>
    <inertia ixx="6.149969982914005e-09" iyy="1.0991433153380228e-09" izz="6.150175236689631e-09" ixy="-2.727023147655921e-12" iyz="6.964204542743409e-13" ixz="2.0858982113591091e-13"/>
  </inertial>
  <visual>
    <origin xyz="0.033646 0.017543 -0.021015" rpy="0 0 0"/>
    <geometry>
      <mesh filename="meshes/lbolt61.stl" scale="0.001 0.001 0.001"/>
    </geometry>
    <material name="silver"/>
    <material/>
  </visual>
  <collision>
    <origin xyz="0.033646 0.017543 -0.021015" rpy="0 0 0"/>
    <geometry>
      <mesh filename="meshes/lbolt61.stl" scale="0.001 0.001 0.001"/>
    </geometry>
  </collision>
</link>

<link name="washers61">
  <inertial>
    <origin xyz="-0.02404783438159084 -0.07802610303870613 -0.03751449398949133" rpy="0 0 0"/>
    <mass value="0.0017531368776831922"/>
    <inertia ixx="1.2790252015440046e-08" iyy="2.1249746859160487e-08" izz="1.2790252771193334e-08" ixy="2.4754537883506927e-19" iyz="-3.7375328797596e-20" ixz="2.3335757696855974e-19"/>
  </inertial>
  <visual>
    <origin xyz="0.009582 -0.054507 -0.058529" rpy="0 0 0"/>
    <geometry>
      <mesh filename="meshes/washers61.stl" scale="0.001 0.001 0.001"/>
    </geometry>
    <material name="silver"/>
    <material/>
  </visual>
  <collision>
    <origin xyz="0.009582 -0.054507 -0.058529" rpy="0 0 0"/>
    <geometry>
      <mesh filename="meshes/washers61.stl" scale="0.001 0.001 0.001"/>
    </geometry>
  </collision>
</link>

<link name="foot2">
  <inertial>
    <origin xyz="-0.022867918259005617 -0.05305954786805211 -0.0053954943620216494" rpy="0 0 0"/>
    <mass value="0.10122041855728602"/>
    <inertia ixx="0.00012182069009578843" iyy="3.5763025256122e-05" izz="0.00015751623507289207" ixy="8.086115327668453e-17" iyz="7.030373462210693e-19" ixz="6.437450399132683e-20"/>
  </inertial>
  <visual>
    <origin xyz="0.020938 -0.066471 -0.01141" rpy="0 0 0"/>
    <geometry>
      <mesh filename="meshes/foot2.stl" scale="0.001 0.001 0.001"/>
    </geometry>
    <material name="silver"/>
    <material/>
  </visual>
  <collision>
    <origin xyz="0.020938 -0.066471 -0.01141" rpy="0 0 0"/>
    <geometry>
      <mesh filename="meshes/foot2.stl" scale="0.001 0.001 0.001"/>
    </geometry>
  </collision>
</link>

<link name="Component531">
  <inertial>
    <origin xyz="8.174073347355648e-08 -3.673516009439215e-08 -0.0020004943620216594" rpy="0 0 0"/>
    <mass value="0.0003945840372908583"/>
    <inertia ixx="9.206961124918727e-10" iyy="9.206960105870329e-10" izz="7.891680239648338e-10" ixy="1.9852334701272664e-21" iyz="0.0" ixz="4.685150989500349e-21"/>
  </inertial>
  <visual>
    <origin xyz="0.067806 0.005604 -0.009015" rpy="0 0 0"/>
    <geometry>
      <mesh filename="meshes/Component531.stl" scale="0.001 0.001 0.001"/>
    </geometry>
    <material name="silver"/>
    <material/>
  </visual>
  <collision>
    <origin xyz="0.067806 0.005604 -0.009015" rpy="0 0 0"/>
    <geometry>
      <mesh filename="meshes/Component531.stl" scale="0.001 0.001 0.001"/>
    </geometry>
  </collision>
</link>

<link name="Component532">
  <inertial>
    <origin xyz="-0.09486791825926659 -0.06407503673515993 -0.004395494362021722" rpy="0 0 0"/>
    <mass value="0.0003945840372908583"/>
    <inertia ixx="9.206961124918859e-10" iyy="9.206960105876681e-10" izz="7.891680239650455e-10" ixy="1.9587636905255695e-21" iyz="0.0" ixz="4.791030107907136e-21"/>
  </inertial>
  <visual>
    <origin xyz="-0.027062 -0.068471 -0.01141" rpy="0 0 0"/>
    <geometry>
      <mesh filename="meshes/Component532.stl" scale="0.001 0.001 0.001"/>
    </geometry>
    <material name="silver"/>
    <material/>
  </visual>
  <collision>
    <origin xyz="-0.027062 -0.068471 -0.01141" rpy="0 0 0"/>
    <geometry>
      <mesh filename="meshes/Component532.stl" scale="0.001 0.001 0.001"/>
    </geometry>
  </collision>
</link>

<link name="Component533">
  <inertial>
    <origin xyz="0.001132081740734668 -0.06407503673515987 -0.0043954943620212825" rpy="0 0 0"/>
    <mass value="0.0003945840372908583"/>
    <inertia ixx="9.206961124918892e-10" iyy="9.206960105882505e-10" izz="7.891680239650455e-10" ixy="1.9587636905255695e-21" iyz="1.6543612251060553e-24" ixz="4.7380905487037425e-21"/>
  </inertial>
  <visual>
    <origin xyz="0.020938 -0.068471 -0.01141" rpy="0 0 0"/>
    <geometry>
      <mesh filename="meshes/Component533.stl" scale="0.001 0.001 0.001"/>
    </geometry>
    <material name="silver"/>
    <material/>
  </visual>
  <collision>
    <origin xyz="0.020938 -0.068471 -0.01141" rpy="0 0 0"/>
    <geometry>
      <mesh filename="meshes/Component533.stl" scale="0.001 0.001 0.001"/>
    </geometry>
  </collision>
</link>

<link name="Component534">
  <inertial>
    <origin xyz="0.001132081740734616 -0.07407503673516003 0.005604505637978809" rpy="0 0 0"/>
    <mass value="0.0003945840372908583"/>
    <inertia ixx="9.206961124919587e-10" iyy="9.206960104606397e-10" izz="7.891680238156236e-10" ixy="1.3234889800848443e-22" iyz="1.8065624578158124e-21" ixz="6.4123041085110705e-21"/>
  </inertial>
  <visual>
    <origin xyz="0.020938 -0.068471 -0.00141" rpy="0 0 0"/>
    <geometry>
      <mesh filename="meshes/Component534.stl" scale="0.001 0.001 0.001"/>
    </geometry>
    <material name="silver"/>
    <material/>
  </visual>
  <collision>
    <origin xyz="0.020938 -0.068471 -0.00141" rpy="0 0 0"/>
    <geometry>
      <mesh filename="meshes/Component534.stl" scale="0.001 0.001 0.001"/>
    </geometry>
  </collision>
</link>

<link name="Component535">
  <inertial>
    <origin xyz="0.09226636989962356 -0.0633144850429765 -0.003863775444581199" rpy="0 0 0"/>
    <mass value="0.0003945840372908583"/>
    <inertia ixx="9.206820053703245e-10" iyy="9.206960083961821e-10" izz="7.891821329985654e-10" ixy="-1.6998188364072335e-16" iyz="1.6531873284310283e-14" ixz="1.362087268868911e-12"/>
  </inertial>
  <visual>
    <origin xyz="0.021737 -0.068126 -0.011233" rpy="0 0 0"/>
    <geometry>
      <mesh filename="meshes/Component535.stl" scale="0.001 0.001 0.001"/>
    </geometry>
    <material name="silver"/>
    <material/>
  </visual>
  <collision>
    <origin xyz="0.021737 -0.068126 -0.011233" rpy="0 0 0"/>
    <geometry>
      <mesh filename="meshes/Component535.stl" scale="0.001 0.001 0.001"/>
    </geometry>
  </collision>
</link>

<link name="Component536">
  <inertial>
    <origin xyz="0.09240573256360639 -0.07331374857104656 0.006136224555418906" rpy="0 0 0"/>
    <mass value="0.0003945840372908583"/>
    <inertia ixx="9.206820053703311e-10" iyy="9.206960083961821e-10" izz="7.891821329989889e-10" ixy="-1.6998193658028255e-16" iyz="1.6531873277692838e-14" ixz="1.3620872687895017e-12"/>
  </inertial>
  <visual>
    <origin xyz="0.021755 -0.068126 -0.001233" rpy="0 0 0"/>
    <geometry>
      <mesh filename="meshes/Component536.stl" scale="0.001 0.001 0.001"/>
    </geometry>
    <material name="silver"/>
    <material/>
  </visual>
  <collision>
    <origin xyz="0.021755 -0.068126 -0.001233" rpy="0 0 0"/>
    <geometry>
      <mesh filename="meshes/Component536.stl" scale="0.001 0.001 0.001"/>
    </geometry>
  </collision>
</link>

<link name="Component537">
  <inertial>
    <origin xyz="-0.0035881579813087233 -0.07398225811238217 0.0057240797103511615" rpy="0 0 0"/>
    <mass value="0.0003945840372908583"/>
    <inertia ixx="9.206820053703179e-10" iyy="9.206960083991732e-10" izz="7.891821330008948e-10" ixy="-1.6998193658028255e-16" iyz="1.6531873284310283e-14" ixz="1.3620872687895017e-12"/>
  </inertial>
  <visual>
    <origin xyz="-0.026245 -0.068212 -0.001148" rpy="0 0 0"/>
    <geometry>
      <mesh filename="meshes/Component537.stl" scale="0.001 0.001 0.001"/>
    </geometry>
    <material name="silver"/>
    <material/>
  </visual>
  <collision>
    <origin xyz="-0.026245 -0.068212 -0.001148" rpy="0 0 0"/>
    <geometry>
      <mesh filename="meshes/Component537.stl" scale="0.001 0.001 0.001"/>
    </geometry>
  </collision>
</link>

<link name="Component538">
  <inertial>
    <origin xyz="-0.0037275206452914086 -0.06398299458431211 -0.004275920289648937" rpy="0 0 0"/>
    <mass value="0.0003945840372908583"/>
    <inertia ixx="9.206820053703278e-10" iyy="9.206960083986703e-10" izz="7.891821330008418e-10" ixy="-1.6998194319772745e-16" iyz="1.653187328100156e-14" ixz="1.3620872688027365e-12"/>
  </inertial>
  <visual>
    <origin xyz="-0.026263 -0.068212 -0.011148" rpy="0 0 0"/>
    <geometry>
      <mesh filename="meshes/Component538.stl" scale="0.001 0.001 0.001"/>
    </geometry>
    <material name="silver"/>
    <material/>
  </visual>
  <collision>
    <origin xyz="-0.026263 -0.068212 -0.011148" rpy="0 0 0"/>
    <geometry>
      <mesh filename="meshes/Component538.stl" scale="0.001 0.001 0.001"/>
    </geometry>
  </collision>
</link>

<joint name="Rigid_164" type="fixed">
  <origin xyz="0.00837 0.016077 0.221871" rpy="0 0 0"/>
  <parent link="base_link"/>
  <child link="camera1"/>
</joint>

<joint name="Rigid_165" type="fixed">
  <origin xyz="0.03637 0.001577 0.192871" rpy="0 0 0"/>
  <parent link="base_link"/>
  <child link="connection1"/>
</joint>

<joint name="Rigid_166" type="fixed">
  <origin xyz="0.044793 -0.056553 0.378928" rpy="0 0 0"/>
  <parent link="base_link"/>
  <child link="connection2"/>
</joint>

<joint name="Rigid_167" type="fixed">
  <origin xyz="-0.014 0.0 -0.024" rpy="0 0 0"/>
  <parent link="connection1"/>
  <child link="bracket11"/>
</joint>

<joint name="Rigid_168" type="fixed">
  <origin xyz="-0.139053 0.047206 -0.067185" rpy="0 0 0"/>
  <parent link="connection2"/>
  <child link="bracket21"/>
</joint>

<joint name="Rigid_169" type="fixed">
  <origin xyz="0.033 0.01384 0.005" rpy="0 0 0"/>
  <parent link="bracket11"/>
  <child link="servo11"/>
</joint>

<joint name="Rigid_170" type="fixed">
  <origin xyz="0.04163 0.024764 -0.137872" rpy="0 0 0"/>
  <parent link="bracket21"/>
  <child link="servo21"/>
</joint>

<joint name="Revolute_171" type="revolute">
  <origin xyz="0.014857 -0.013824 -0.005" rpy="0 0 0"/>
  <parent link="servo11"/>
  <child link="geer11"/>
  <axis xyz="1.0 0.0 -0.0"/>
  <limit upper="3.316126" lower="-0.174533" effort="100" velocity="100"/>
</joint>
<transmission name="Revolute_171_tran">
  <type>transmission_interface/SimpleTransmission</type>
  <joint name="Revolute_171">
    <hardwareInterface>PositionJointInterface</hardwareInterface>
  </joint>
  <actuator name="Revolute_171_actr">
    <hardwareInterface>PositionJointInterface</hardwareInterface>
    <mechanicalReduction>1</mechanicalReduction>
  </actuator>
</transmission>

<joint name="Rigid_172" type="fixed">
  <origin xyz="0.0025 0.0 0.0" rpy="0 0 0"/>
  <parent link="geer11"/>
  <child link="shoulder1"/>
</joint>

<joint name="Revolute_173" type="revolute">
  <origin xyz="-0.014857 -0.013824 -0.005" rpy="0 0 0"/>
  <parent link="servo21"/>
  <child link="geer21"/>
  <axis xyz="-1.0 -0.0 0.0"/>
  <limit upper="0.174533" lower="-3.316126" effort="100" velocity="100"/>
</joint>
<transmission name="Revolute_173_tran">
  <type>transmission_interface/SimpleTransmission</type>
  <joint name="Revolute_173">
    <hardwareInterface>PositionJointInterface</hardwareInterface>
  </joint>
  <actuator name="Revolute_173_actr">
    <hardwareInterface>PositionJointInterface</hardwareInterface>
    <mechanicalReduction>1</mechanicalReduction>
  </actuator>
</transmission>

<joint name="Rigid_174" type="fixed">
  <origin xyz="-0.171371 0.016593 -0.039986" rpy="0 0 0"/>
  <parent link="geer21"/>
  <child link="shoulder2"/>
</joint>

<joint name="Rigid_175" type="fixed">
  <origin xyz="0.032 0.026713 -0.02372" rpy="0 0 0"/>
  <parent link="shoulder1"/>
  <child link="geer31"/>
</joint>

<joint name="Revolute_176" type="revolute">
  <origin xyz="0.0 -0.002499 -7.4e-05" rpy="0 0 0"/>
  <parent link="geer31"/>
  <child link="servo31"/>
  <axis xyz="-0.0 0.999563 0.029572"/>
  <limit upper="0.959931" lower="-1.134464" effort="100" velocity="100"/>
</joint>
<transmission name="Revolute_176_tran">
  <type>transmission_interface/SimpleTransmission</type>
  <joint name="Revolute_176">
    <hardwareInterface>PositionJointInterface</hardwareInterface>
  </joint>
  <actuator name="Revolute_176_actr">
    <hardwareInterface>PositionJointInterface</hardwareInterface>
    <mechanicalReduction>1</mechanicalReduction>
  </actuator>
</transmission>

<joint name="Rigid_177" type="fixed">
  <origin xyz="0.005 -0.015259 0.013379" rpy="0 0 0"/>
  <parent link="servo31"/>
  <child link="bracket31"/>
</joint>

<joint name="Rigid_178" type="fixed">
  <origin xyz="-0.005 -0.030516 -0.014749" rpy="0 0 0"/>
  <parent link="bracket31"/>
  <child link="lbolt11"/>
</joint>

<joint name="Rigid_179" type="fixed">
  <origin xyz="0.032 -0.027263 -0.025317" rpy="0 0 0"/>
  <parent link="shoulder1"/>
  <child link="washers11"/>
</joint>

<joint name="Rigid_180" type="fixed">
  <origin xyz="0.005428 0.173851 -0.134583" rpy="0 0 0"/>
  <parent link="bracket31"/>
  <child link="connection3"/>
</joint>

<joint name="Rigid_181" type="fixed">
  <origin xyz="-0.057058 -0.164974 -0.066614" rpy="0 0 0"/>
  <parent link="connection3"/>
  <child link="hand1"/>
</joint>

<joint name="Rigid_182" type="fixed">
  <origin xyz="0.261598 -0.068265 0.146099" rpy="0 0 0"/>
  <parent link="shoulder2"/>
  <child link="geer41"/>
</joint>

<joint name="Revolute_183" type="revolute">
  <origin xyz="-0.124727 0.075172 -0.130613" rpy="0 0 0"/>
  <parent link="geer41"/>
  <child link="servo41"/>
  <axis xyz="-0.0 1.0 -0.0"/>
  <limit upper="1.134464" lower="-0.959931" effort="100" velocity="100"/>
</joint>
<transmission name="Revolute_183_tran">
  <type>transmission_interface/SimpleTransmission</type>
  <joint name="Revolute_183">
    <hardwareInterface>PositionJointInterface</hardwareInterface>
  </joint>
  <actuator name="Revolute_183_actr">
    <hardwareInterface>PositionJointInterface</hardwareInterface>
    <mechanicalReduction>1</mechanicalReduction>
  </actuator>
</transmission>

<joint name="Rigid_184" type="fixed">
  <origin xyz="-0.005 -0.014857 0.013824" rpy="0 0 0"/>
  <parent link="servo41"/>
  <child link="bracket41"/>
</joint>

<joint name="Rigid_185" type="fixed">
  <origin xyz="0.005 -0.030939 -0.01384" rpy="0 0 0"/>
  <parent link="bracket41"/>
  <child link="lbolt21"/>
</joint>

<joint name="Rigid_186" type="fixed">
  <origin xyz="0.261598 -0.014288 0.147696" rpy="0 0 0"/>
  <parent link="shoulder2"/>
  <child link="washers21"/>
</joint>

<joint name="Rigid_187" type="fixed">
  <origin xyz="-0.006764 0.169756 -0.143049" rpy="0 0 0"/>
  <parent link="bracket41"/>
  <child link="connection4"/>
</joint>

<joint name="Rigid_188" type="fixed">
  <origin xyz="0.058394 -0.188679 -0.058322" rpy="0 0 0"/>
  <parent link="connection4"/>
  <child link="hand2"/>
</joint>

<joint name="Rigid_189" type="fixed">
  <origin xyz="0.014 -0.01016 -0.014" rpy="0 0 0"/>
  <parent link="bracket11"/>
  <child link="body1"/>
</joint>

<joint name="Rigid_190" type="fixed">
  <origin xyz="0.0 0.0 -0.029" rpy="0 0 0"/>
  <parent link="body1"/>
  <child link="geer51"/>
</joint>

<joint name="Revolute_191" type="revolute">
  <origin xyz="0.0 0.0 -0.0025" rpy="0 0 0"/>
  <parent link="geer51"/>
  <child link="servo51"/>
  <axis xyz="0.0 0.0 1.0"/>
  <limit upper="0.349066" lower="-0.349066" effort="100" velocity="100"/>
</joint>
<transmission name="Revolute_191_tran">
  <type>transmission_interface/SimpleTransmission</type>
  <joint name="Revolute_191">
    <hardwareInterface>PositionJointInterface</hardwareInterface>
  </joint>
  <actuator name="Revolute_191_actr">
    <hardwareInterface>PositionJointInterface</hardwareInterface>
    <mechanicalReduction>1</mechanicalReduction>
  </actuator>
</transmission>

<joint name="Rigid_192" type="fixed">
  <origin xyz="-0.07 0.0 -0.029" rpy="0 0 0"/>
  <parent link="body1"/>
  <child link="geer61"/>
</joint>

<joint name="Revolute_193" type="revolute">
  <origin xyz="0.0 0.0 -0.0025" rpy="0 0 0"/>
  <parent link="geer61"/>
  <child link="servo61"/>
  <axis xyz="0.0 0.0 1.0"/>
  <limit upper="0.349066" lower="-0.349066" effort="100" velocity="100"/>
</joint>
<transmission name="Revolute_193_tran">
  <type>transmission_interface/SimpleTransmission</type>
  <joint name="Revolute_193">
    <hardwareInterface>PositionJointInterface</hardwareInterface>
  </joint>
  <actuator name="Revolute_193_actr">
    <hardwareInterface>PositionJointInterface</hardwareInterface>
    <mechanicalReduction>1</mechanicalReduction>
  </actuator>
</transmission>

<joint name="Rigid_194" type="fixed">
  <origin xyz="-0.005 -0.013824 -0.014856" rpy="0 0 0"/>
  <parent link="servo61"/>
  <child link="bracket61"/>
</joint>

<joint name="Rigid_195" type="fixed">
  <origin xyz="-0.004832 -0.013884 -0.014856" rpy="0 0 0"/>
  <parent link="servo51"/>
  <child link="bracket51"/>
</joint>

<joint name="Rigid_196" type="fixed">
  <origin xyz="-0.004247 0.060692 0.121575" rpy="0 0 0"/>
  <parent link="bracket61"/>
  <child link="leg2"/>
</joint>

<joint name="Rigid_197" type="fixed">
  <origin xyz="0.005 0.02716 -0.03094" rpy="0 0 0"/>
  <parent link="bracket61"/>
  <child link="lbolt41"/>
</joint>

<joint name="Rigid_198" type="fixed">
  <origin xyz="0.032955 0.04422 -0.119061" rpy="0 0 0"/>
  <parent link="leg2"/>
  <child link="washers41"/>
</joint>

<joint name="Rigid_199" type="fixed">
  <origin xyz="0.00467 0.027219 -0.033" rpy="0 0 0"/>
  <parent link="bracket51"/>
  <child link="leg1"/>
</joint>

<joint name="Rigid_200" type="fixed">
  <origin xyz="0.00467 0.027219 -0.03094" rpy="0 0 0"/>
  <parent link="bracket51"/>
  <child link="lbolt31"/>
</joint>

<joint name="Rigid_201" type="fixed">
  <origin xyz="0.0 0.0 -0.002" rpy="0 0 0"/>
  <parent link="leg1"/>
  <child link="washers31"/>
</joint>

<joint name="Rigid_202" type="fixed">
  <origin xyz="-0.000315 0.025998 -0.0545" rpy="0 0 0"/>
  <parent link="leg1"/>
  <child link="geer71"/>
</joint>

<joint name="Revolute_203" type="revolute">
  <origin xyz="3e-05 -0.0025 0.0" rpy="0 0 0"/>
  <parent link="geer71"/>
  <child link="servo71"/>
  <axis xyz="-0.012136 0.999926 -0.0"/>
  <limit upper="1.570796" lower="-1.570796" effort="100" velocity="100"/>
</joint>
<transmission name="Revolute_203_tran">
  <type>transmission_interface/SimpleTransmission</type>
  <joint name="Revolute_203">
    <hardwareInterface>PositionJointInterface</hardwareInterface>
  </joint>
  <actuator name="Revolute_203_actr">
    <hardwareInterface>PositionJointInterface</hardwareInterface>
    <mechanicalReduction>1</mechanicalReduction>
  </actuator>
</transmission>

<joint name="Rigid_204" type="fixed">
  <origin xyz="-0.013694 -0.015024 0.004856" rpy="0 0 0"/>
  <parent link="servo71"/>
  <child link="bracket71"/>
</joint>

<joint name="Rigid_205" type="fixed">
  <origin xyz="0.014266 -0.030768 -0.004856" rpy="0 0 0"/>
  <parent link="bracket71"/>
  <child link="lbolt51"/>
</joint>

<joint name="Rigid_206" type="fixed">
  <origin xyz="0.00034 -0.027998 -0.0545" rpy="0 0 0"/>
  <parent link="leg1"/>
  <child link="washers51"/>
</joint>

<joint name="Rigid_207" type="fixed">
  <origin xyz="0.000306 -0.008997 -0.018999" rpy="0 0 0"/>
  <parent link="bracket71"/>
  <child link="foot1"/>
</joint>

<joint name="Rigid_208" type="fixed">
  <origin xyz="0.03264 0.070218 -0.171561" rpy="0 0 0"/>
  <parent link="leg2"/>
  <child link="geer81"/>
</joint>

<joint name="Revolute_209" type="revolute">
  <origin xyz="-0.023393 -0.08025 -0.037514" rpy="0 0 0"/>
  <parent link="geer81"/>
  <child link="servo81"/>
  <axis xyz="-0.0 1.0 -0.0"/>
  <limit upper="1.570796" lower="-1.570796" effort="100" velocity="100"/>
</joint>
<transmission name="Revolute_209_tran">
  <type>transmission_interface/SimpleTransmission</type>
  <joint name="Revolute_209">
    <hardwareInterface>PositionJointInterface</hardwareInterface>
  </joint>
  <actuator name="Revolute_209_actr">
    <hardwareInterface>PositionJointInterface</hardwareInterface>
    <mechanicalReduction>1</mechanicalReduction>
  </actuator>
</transmission>

<joint name="Rigid_210" type="fixed">
  <origin xyz="0.013824 -0.014857 0.005" rpy="0 0 0"/>
  <parent link="servo81"/>
  <child link="bracket81"/>
</joint>

<joint name="Rigid_211" type="fixed">
  <origin xyz="-0.01384 -0.030939 -0.005" rpy="0 0 0"/>
  <parent link="bracket81"/>
  <child link="lbolt61"/>
</joint>

<joint name="Rigid_212" type="fixed">
  <origin xyz="0.033295 0.016222 -0.171561" rpy="0 0 0"/>
  <parent link="leg2"/>
  <child link="washers61"/>
</joint>

<joint name="Rigid_213" type="fixed">
  <origin xyz="-0.001132 0.053075 -0.014605" rpy="0 0 0"/>
  <parent link="bracket81"/>
  <child link="foot2"/>
</joint>

<joint name="Rigid_214" type="fixed">
  <origin xyz="-0.048 -0.019 -0.017" rpy="0 0 0"/>
  <parent link="bracket81"/>
  <child link="Component531"/>
</joint>

<joint name="Rigid_215" type="fixed">
  <origin xyz="0.046868 0.055075 -0.014605" rpy="0 0 0"/>
  <parent link="bracket81"/>
  <child link="Component532"/>
</joint>

<joint name="Rigid_216" type="fixed">
  <origin xyz="-0.001132 0.055075 -0.014605" rpy="0 0 0"/>
  <parent link="bracket81"/>
  <child link="Component533"/>
</joint>

<joint name="Rigid_217" type="fixed">
  <origin xyz="-0.001132 0.055075 -0.024605" rpy="0 0 0"/>
  <parent link="bracket81"/>
  <child link="Component534"/>
</joint>

<joint name="Rigid_218" type="fixed">
  <origin xyz="-0.043966 0.0549 -0.014638" rpy="0 0 0"/>
  <parent link="bracket71"/>
  <child link="Component535"/>
</joint>

<joint name="Rigid_219" type="fixed">
  <origin xyz="-0.043984 0.0549 -0.024638" rpy="0 0 0"/>
  <parent link="bracket71"/>
  <child link="Component536"/>
</joint>

<joint name="Rigid_220" type="fixed">
  <origin xyz="0.004016 0.054986 -0.024723" rpy="0 0 0"/>
  <parent link="bracket71"/>
  <child link="Component537"/>
</joint>

<joint name="Rigid_221" type="fixed">
  <origin xyz="0.004034 0.054986 -0.014723" rpy="0 0 0"/>
  <parent link="bracket71"/>
  <child link="Component538"/>
</joint>

</robot>
